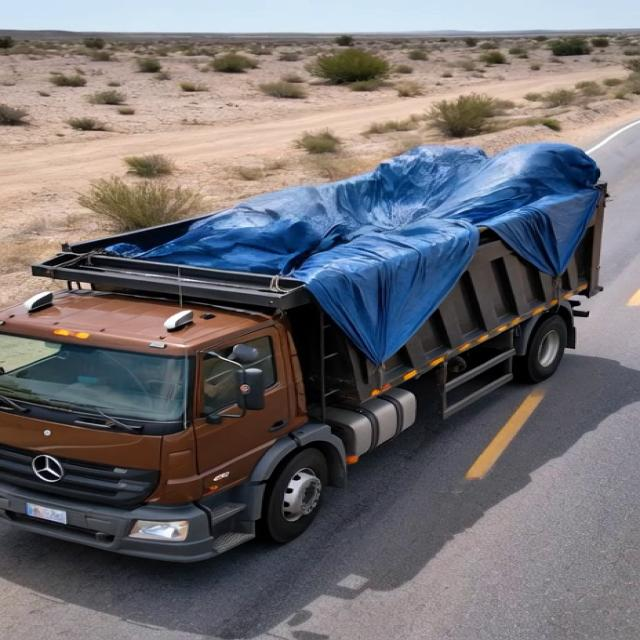trailer: (36, 134, 602, 294)
truck: (3, 98, 626, 565)
